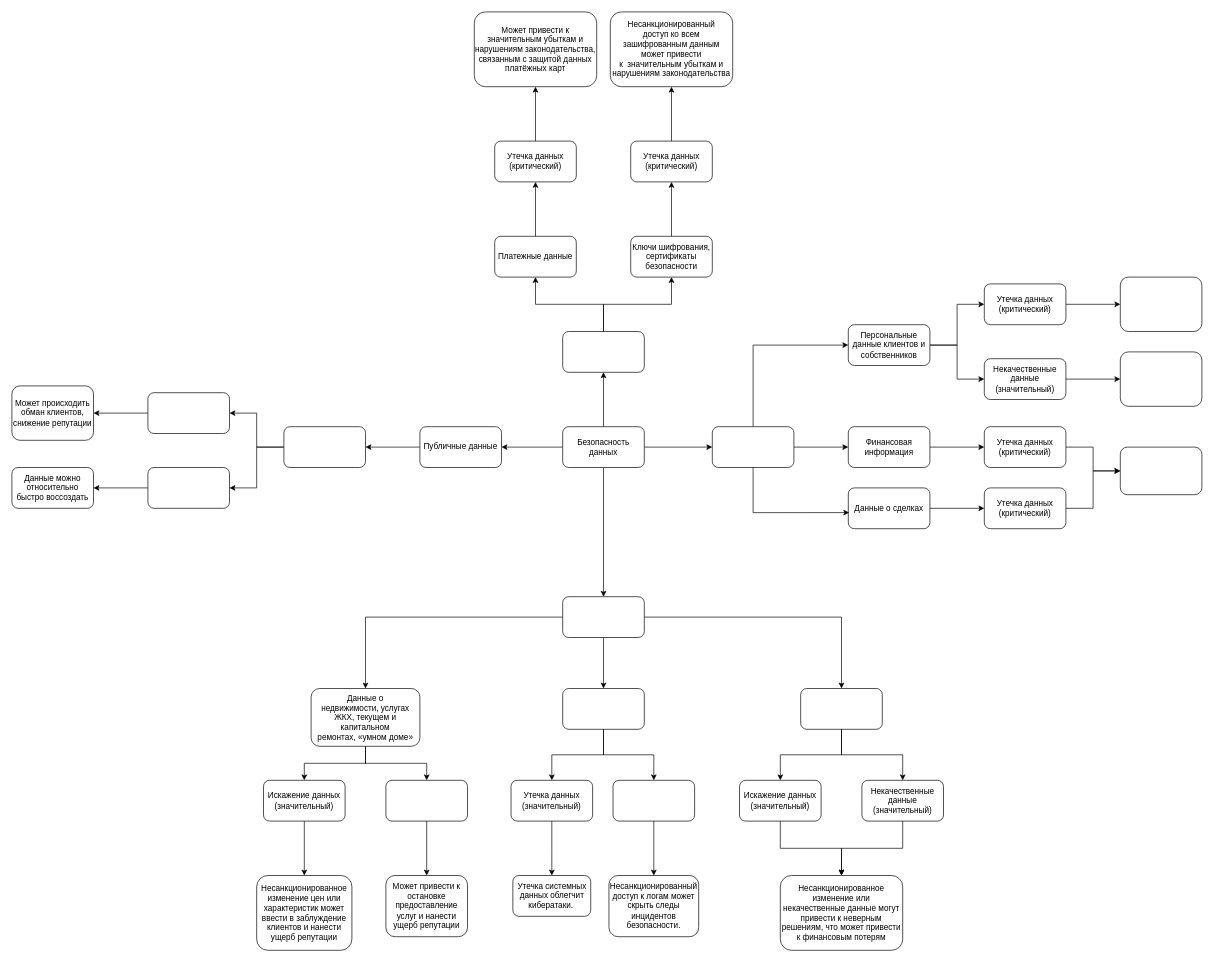
The diagram is 1214 pixels wide and 962 high, and some of its shapes have lost their labels. Each missing label, with the centre of its shape:
Внутренние данные: point 603,617
Внутренние отчёты: point 841,708
Информация о компании: point 324,447
Искажение данных (критический): point 653,800
Искажение данных (незначительный): point 188,413
Конфиденциальные данные: point 753,447
Может привести к аннулированию или не заключению сделок: point 1161,378
Может привести к финансовым потерям компании и клиентов: point 1161,470
Может привести к юридическим тяжбам и ущерб репутации: point 1161,304
Потеря данных (значительный): point 426,800
Потеря данных (незначительный): point 188,487
Секретные данные: point 603,351
Системные и технические данные: point 603,708
